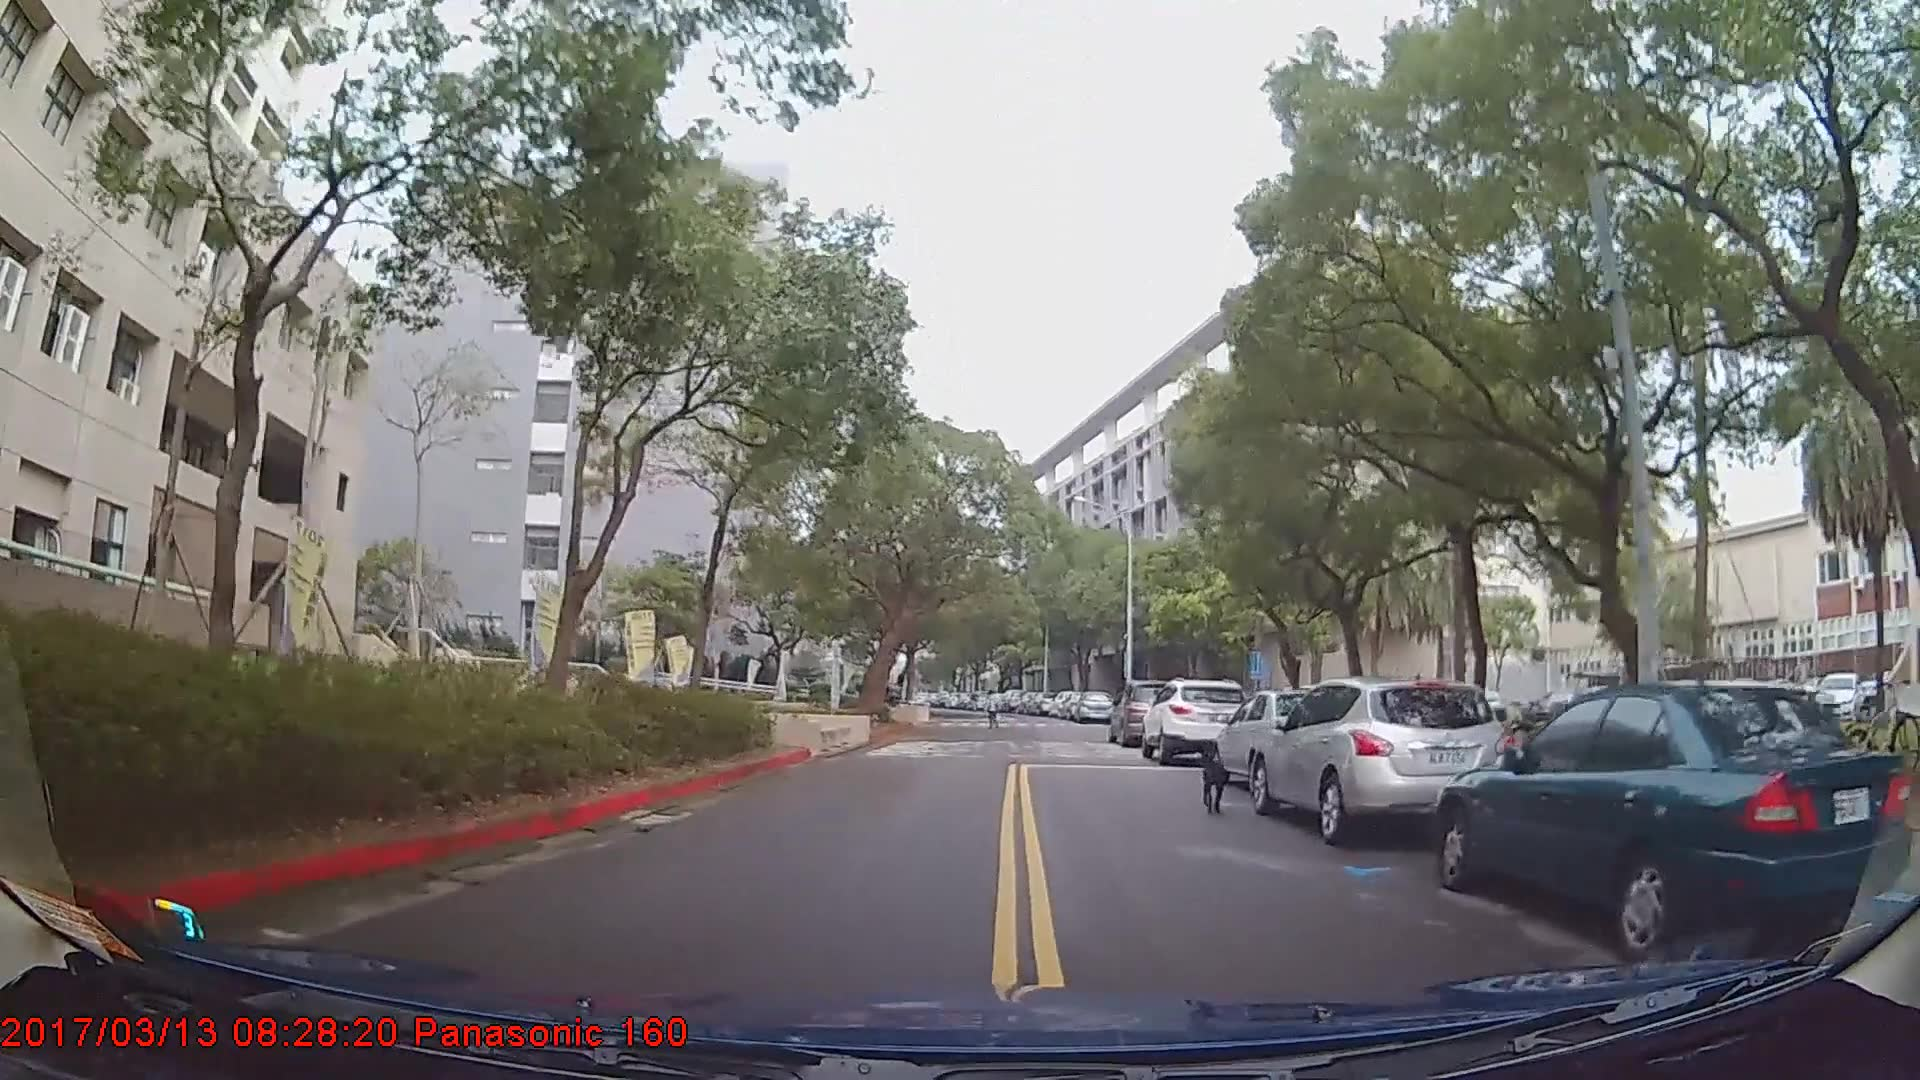pedestrian: (985, 688, 1005, 729)
vehicle: (1439, 680, 1910, 955), (1253, 670, 1520, 841), (1211, 686, 1357, 797), (1142, 673, 1255, 761), (1107, 677, 1192, 745), (1071, 687, 1113, 720)
